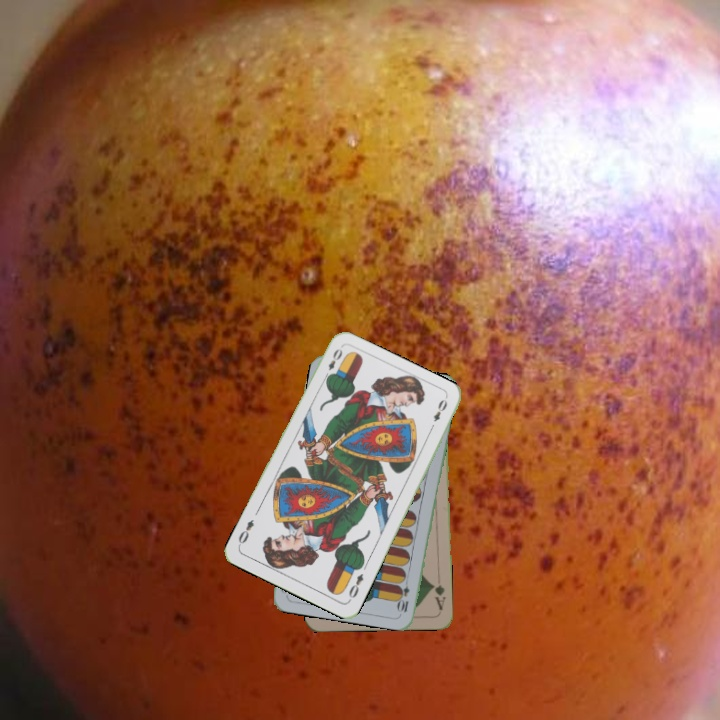E10: (395, 574, 412, 615)
EO: (320, 344, 345, 382), (345, 569, 366, 601)
GA: (428, 573, 448, 612)
